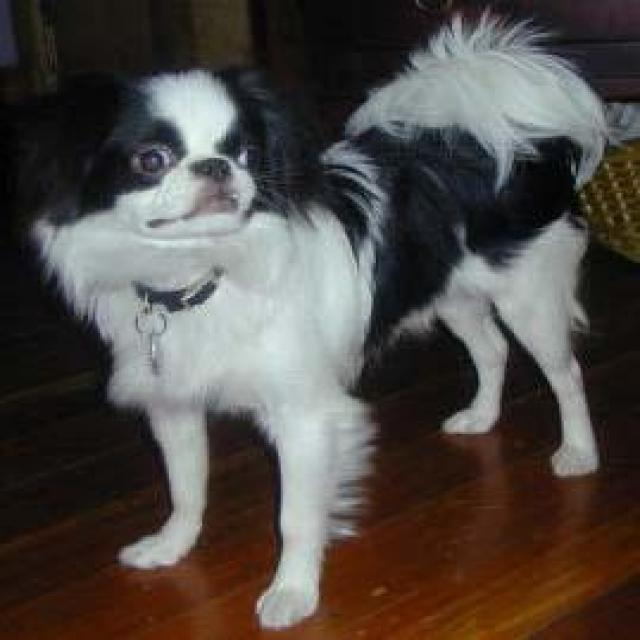husky: (29, 11, 609, 622)
